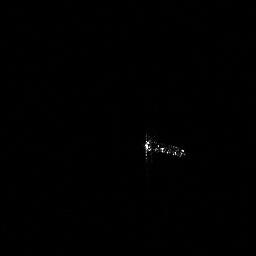ship: (144, 137, 186, 157)
